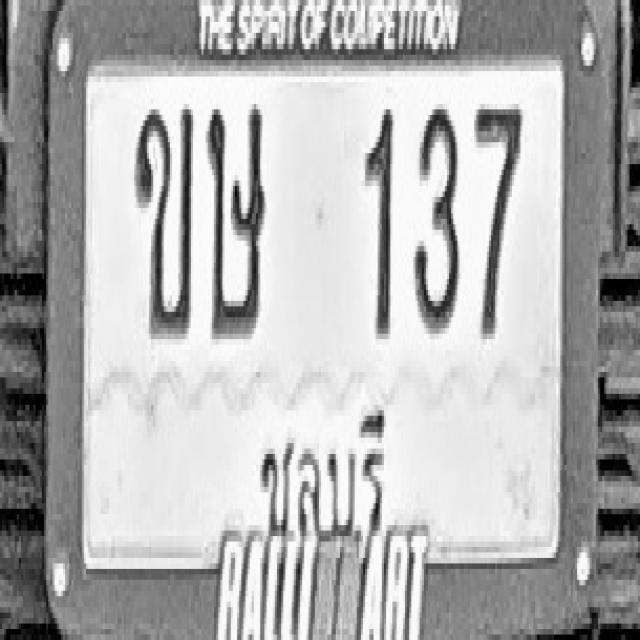1: (363, 104, 392, 339)
11KhorKhai: (133, 104, 192, 339)
3: (412, 104, 458, 334)
48SorRueSi: (207, 101, 266, 336)
7: (473, 101, 522, 336)
Chonburi: (246, 387, 386, 543)
